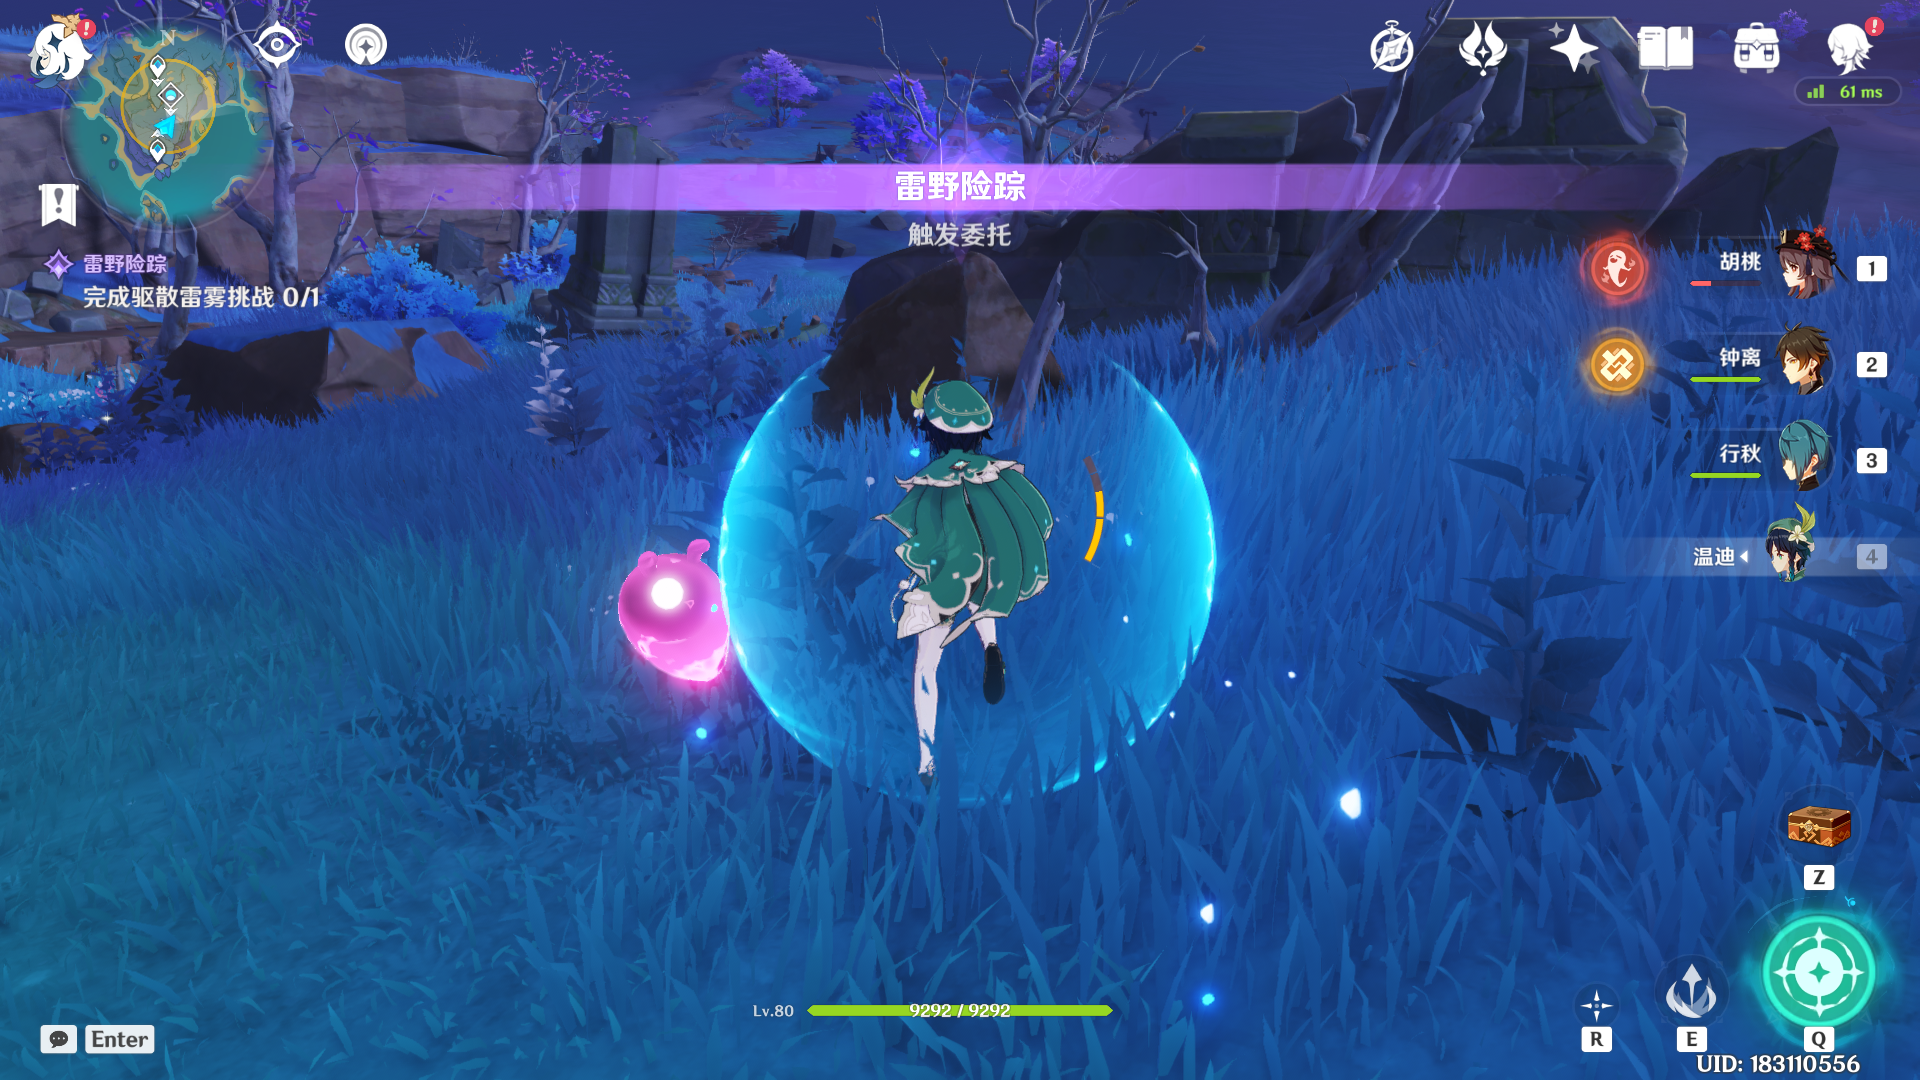character: (837, 367, 1104, 828)
